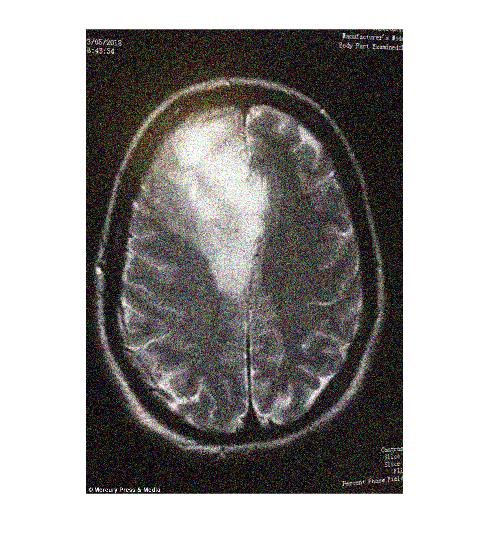Brain_Cancer: (169, 116, 266, 298)
